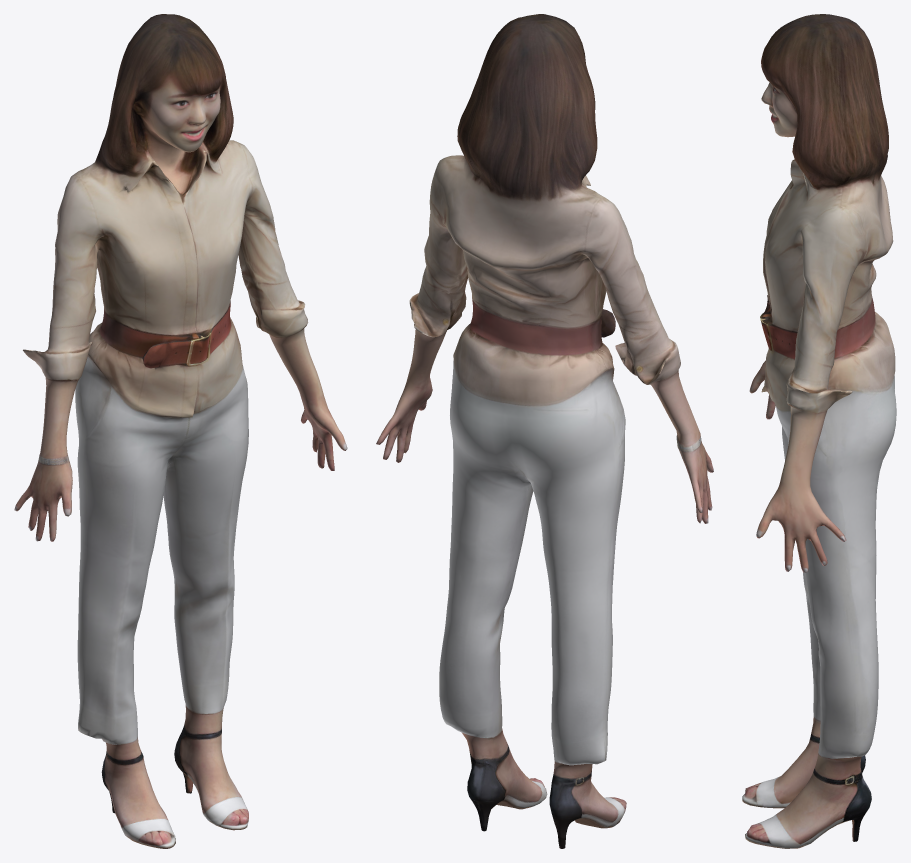
The model's file is KanaScan.glb.
The picture shows the model from 3 angles, left to right: view 1: azimuth 30°, elevation 25°; view 2: azimuth 150°, elevation 25°; view 3: azimuth 270°, elevation 25°; orthographic projection. The views are drawn at different scales.
Visible parts, largest first — view 1: 018_Kana; view 2: 018_Kana; view 3: 018_Kana.
Part boxes in pixels (x1=…): 018_Kana: x1=14, y1=14, x2=347, y2=848; 018_Kana: x1=376, y1=14, x2=713, y2=848; 018_Kana: x1=742, y1=14, x2=896, y2=848.
Size of the model in its own units: 65.71 by 162 by 28.07.
Materials: 1 (1 with a texture image).
